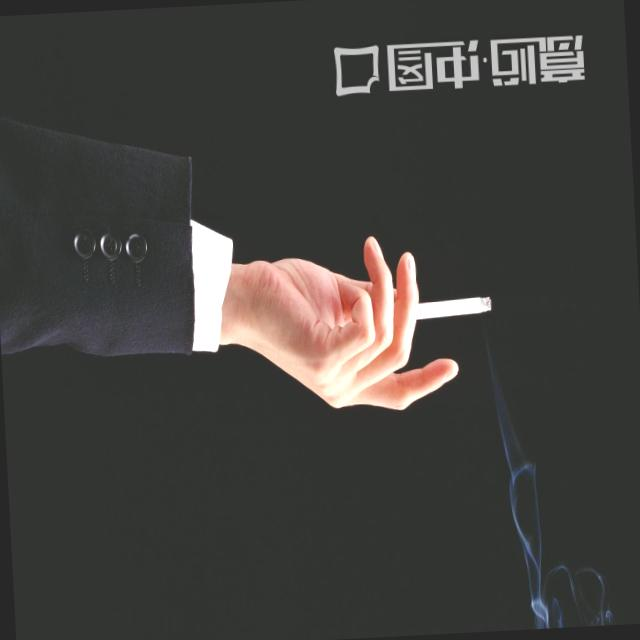cigarette: (384, 286, 496, 328)
